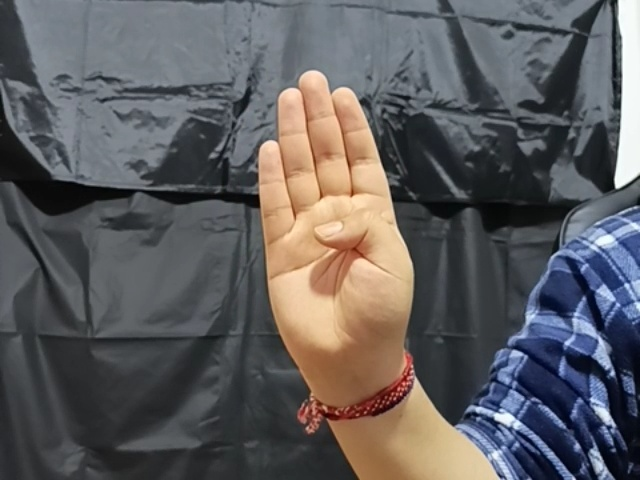B: (250, 64, 426, 377)
